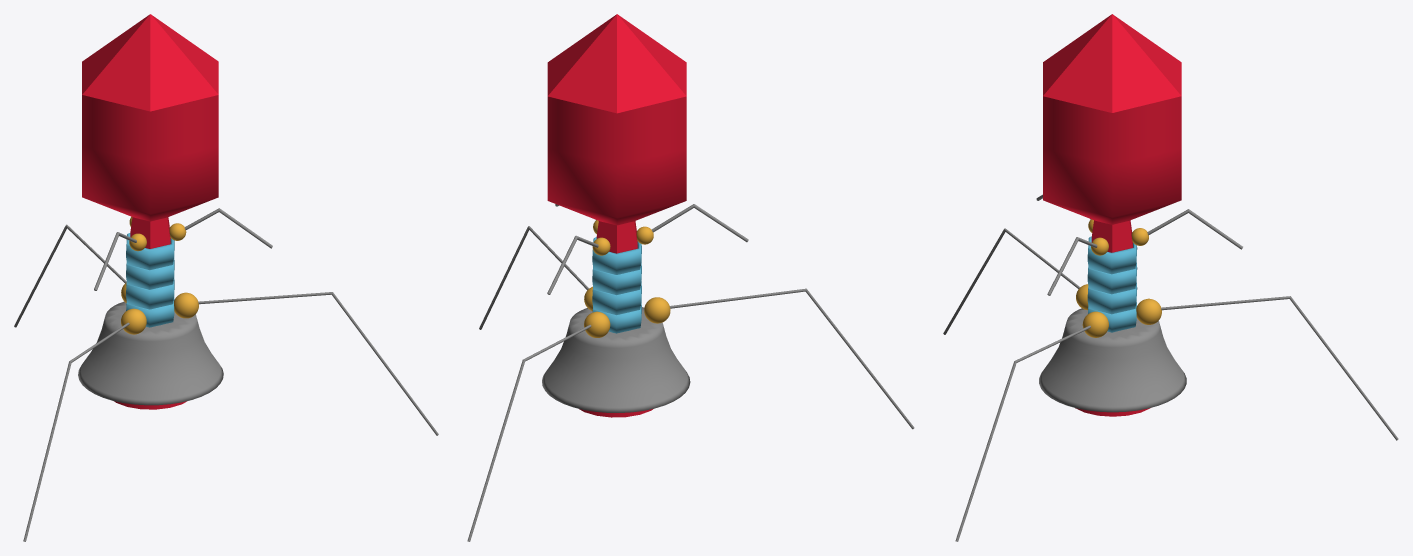
File: virus.obj
The picture shows the model from 3 angles, left to right: view 1: azimuth 30°, elevation 25°; view 2: azimuth 150°, elevation 25°; view 3: azimuth 270°, elevation 25°; orthographic projection.
Visible parts, largest first — view 1: Cylinder004, Cylinder005, Torus078, Line016, Torus080, Torus079, Line018, Torus081, Line017, Sphere014, Sphere013; view 2: Cylinder004, Cylinder005, Torus078, Line018, Torus079, Torus080, Line017, Torus081, Line016, Sphere013, Sphere015; view 3: Cylinder004, Cylinder005, Torus078, Torus079, Torus080, Line017, Line016, Line018, Torus081, Sphere015, Sphere014.
Boxes of the visible parts, x1=… form: Cylinder004: x1=82, y1=14, x2=218, y2=248; Cylinder005: x1=78, y1=301, x2=223, y2=405; Torus078: x1=126, y1=233, x2=174, y2=270; Line016: x1=198, y1=292, x2=438, y2=435; Torus080: x1=126, y1=276, x2=174, y2=309; Torus079: x1=126, y1=257, x2=174, y2=289; Line018: x1=23, y1=322, x2=129, y2=541; Torus081: x1=126, y1=296, x2=174, y2=327; Line017: x1=14, y1=224, x2=126, y2=327; Sphere014: x1=174, y1=292, x2=198, y2=318; Sphere013: x1=121, y1=308, x2=146, y2=334; Cylinder004: x1=547, y1=14, x2=686, y2=253; Cylinder005: x1=542, y1=307, x2=690, y2=412; Torus078: x1=592, y1=237, x2=641, y2=274; Line018: x1=669, y1=288, x2=914, y2=429; Torus079: x1=592, y1=261, x2=641, y2=295; Torus080: x1=592, y1=281, x2=641, y2=315; Line017: x1=467, y1=324, x2=591, y2=541; Torus081: x1=592, y1=301, x2=641, y2=333; Line016: x1=479, y1=226, x2=588, y2=329; Sphere013: x1=644, y1=297, x2=670, y2=323; Sphere015: x1=584, y1=311, x2=610, y2=337; Cylinder004: x1=1043, y1=14, x2=1181, y2=252; Cylinder005: x1=1039, y1=308, x2=1186, y2=412; Torus078: x1=1087, y1=236, x2=1137, y2=274; Torus079: x1=1087, y1=261, x2=1137, y2=294; Torus080: x1=1087, y1=281, x2=1137, y2=314; Line017: x1=1161, y1=296, x2=1398, y2=440; Line016: x1=955, y1=325, x2=1090, y2=541; Line018: x1=943, y1=228, x2=1080, y2=334; Torus081: x1=1088, y1=301, x2=1136, y2=332; Sphere015: x1=1136, y1=298, x2=1161, y2=324; Sphere014: x1=1082, y1=311, x2=1108, y2=337.
Bounding box in the file's own units: 31.47 × 29.78 × 29.
